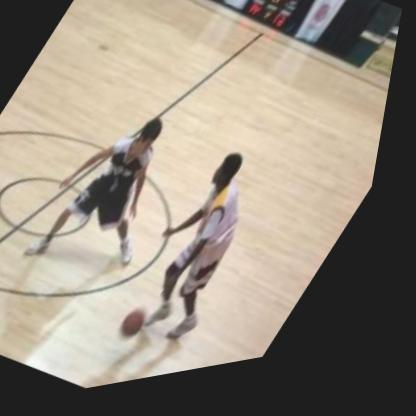basketball: (122, 305, 171, 356)
